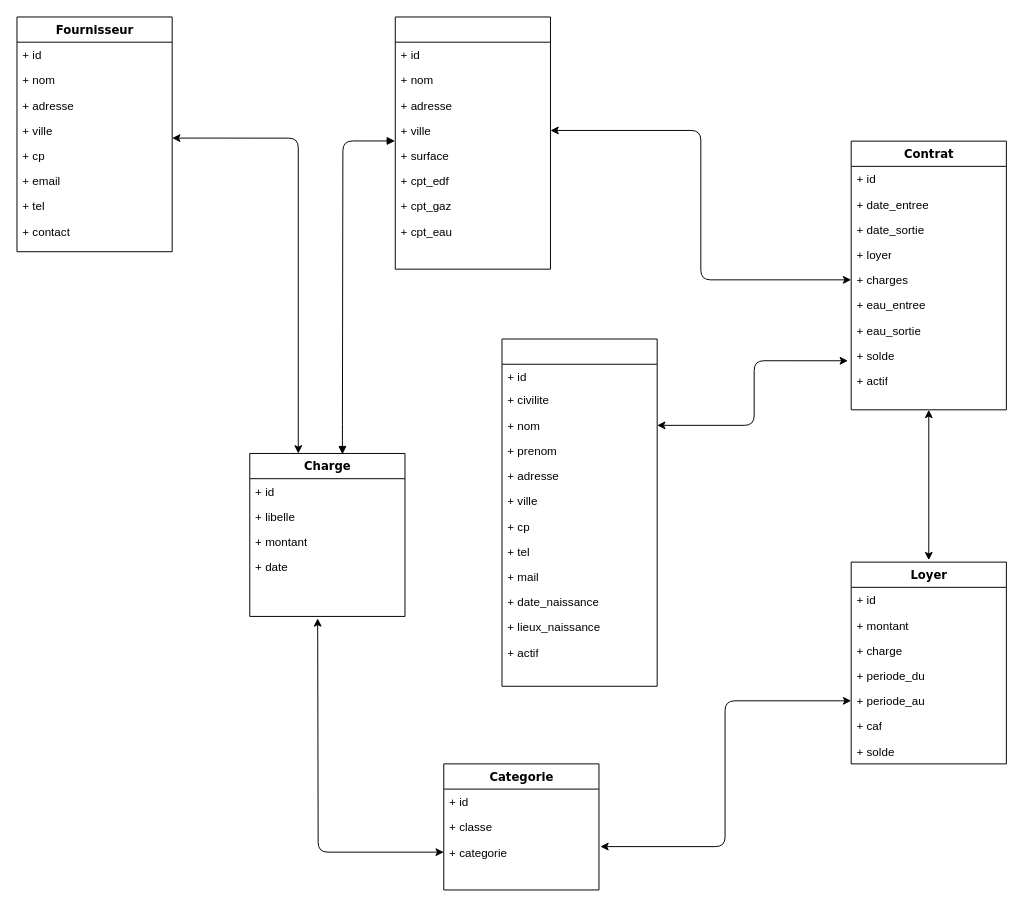
Some shapes in this 1023 by 907 pixel diagram are drawn without their labels. Here are the shapes that lost their labels. From the top down, the box of each, then its label:
(394, 16, 550, 269): Local
(501, 338, 657, 686): Locataire
